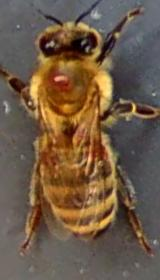varroa_mite: (35, 66, 89, 93)
